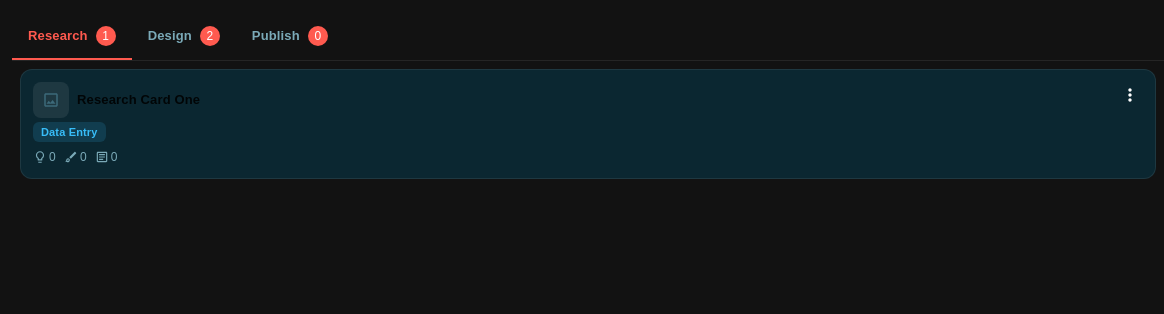
Test: MobileKanbanTabs › clicking a tab switches the active panel
Expected: the text "Research Card One" is shown, [77,92,200,107]
Expected: the text "Design Card One" is not shown
Click the tab "Design 2": x=184, y=36 [132,12,236,60]
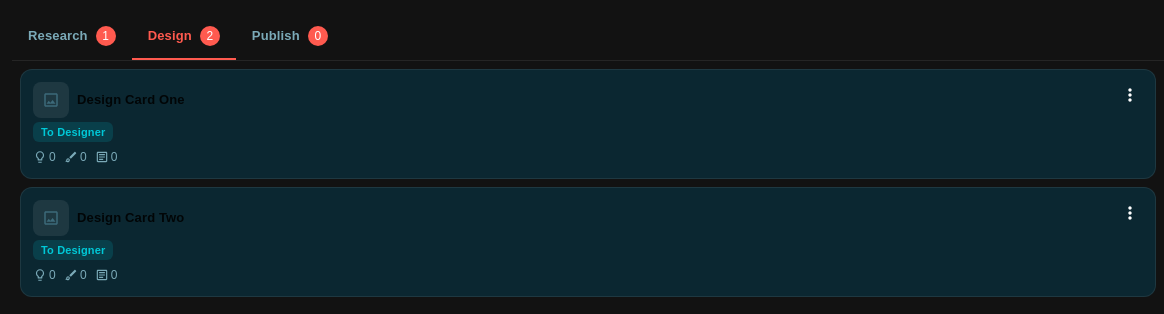
Result: the button "Research Card One" is gone
Result: the text "Design Card One" is shown at [77,92,185,107]
Result: the text "Design Card Two" is shown at [77,210,184,225]
